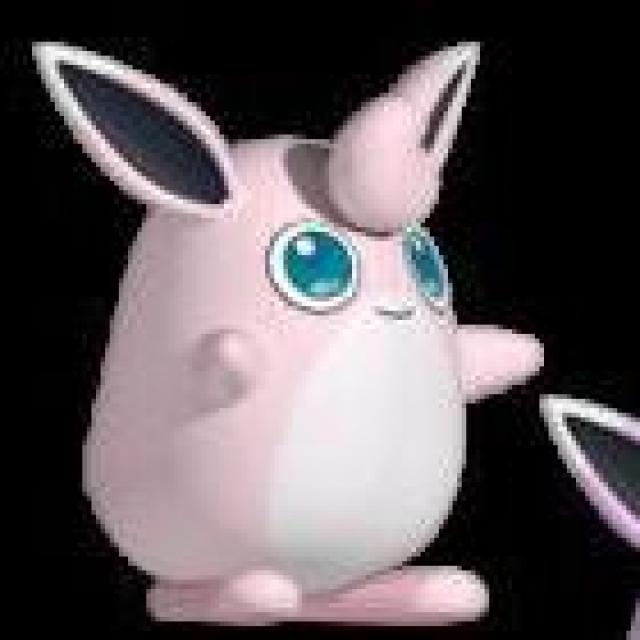Wigglytuff: (78, 38, 491, 634)
